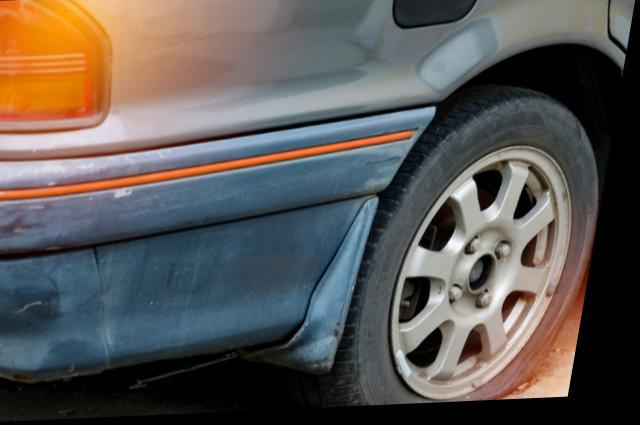tire flat: (343, 85, 606, 411)
